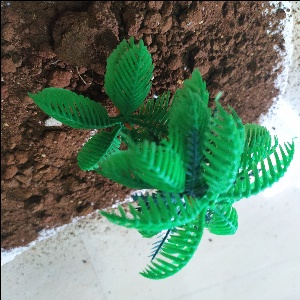plant: (28, 37, 300, 283)
